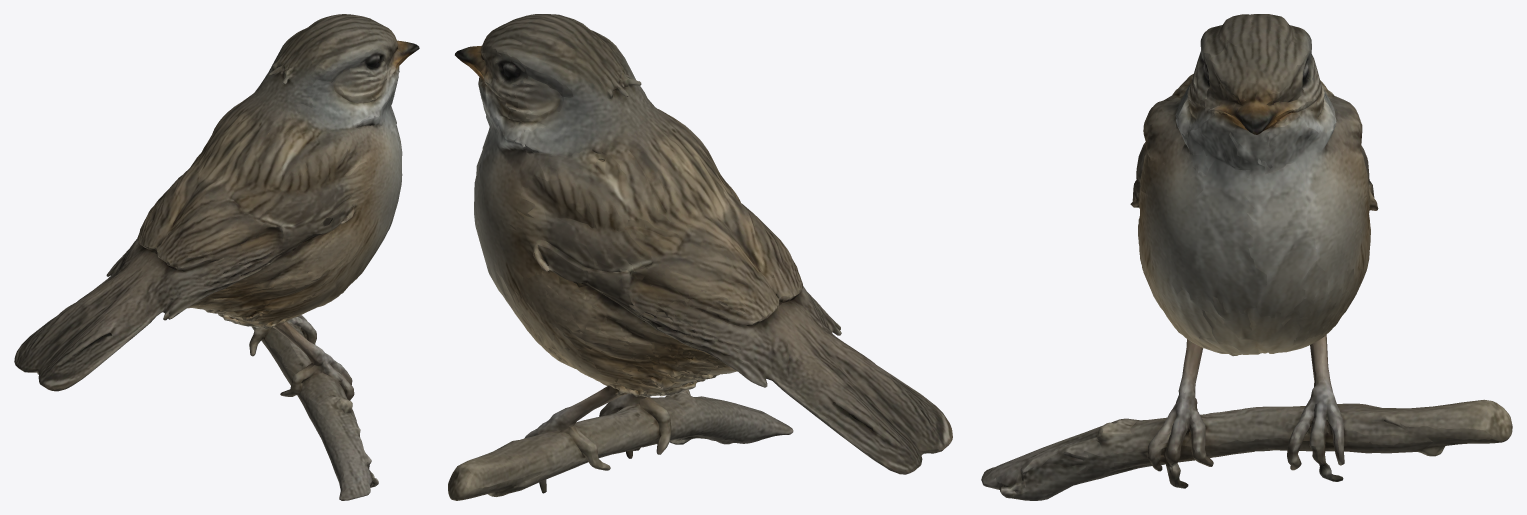
The model's file is songbird-v18-lod.glb.
The picture shows the model from 3 angles, left to right: view 1: azimuth 30°, elevation 25°; view 2: azimuth 150°, elevation 25°; view 3: azimuth 270°, elevation 25°; orthographic projection. The views are drawn at different scales.
Visible parts, largest first — view 1: geometry_0; view 2: geometry_0; view 3: geometry_0.
Boxes of the visible parts, bbox=[...] form: geometry_0: bbox=[14, 14, 419, 500]; geometry_0: bbox=[448, 14, 952, 500]; geometry_0: bbox=[981, 14, 1512, 500].
Bounding box in the file's own units: 0.1399 × 0.1337 × 0.1237.
1 material, 1 textured.
